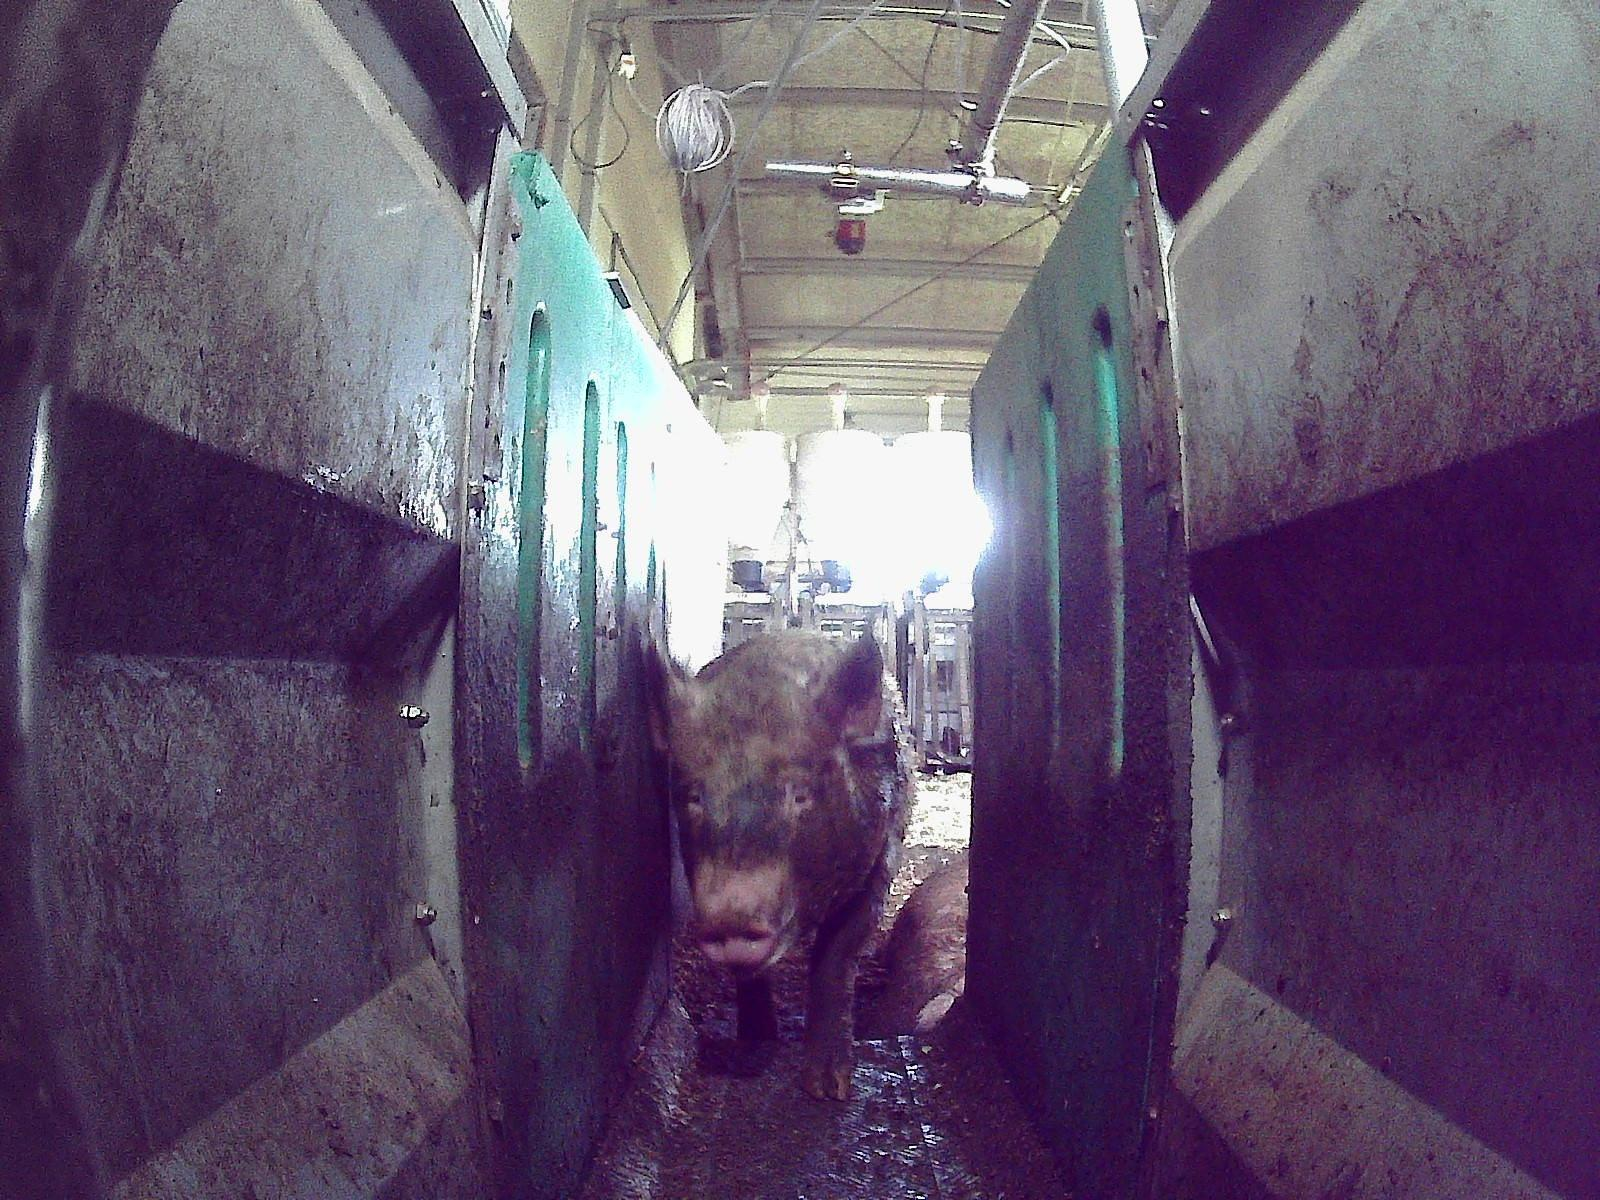Face: (670, 702, 833, 977)
